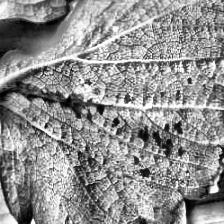Angular Leafspot: (0, 72, 204, 184)
